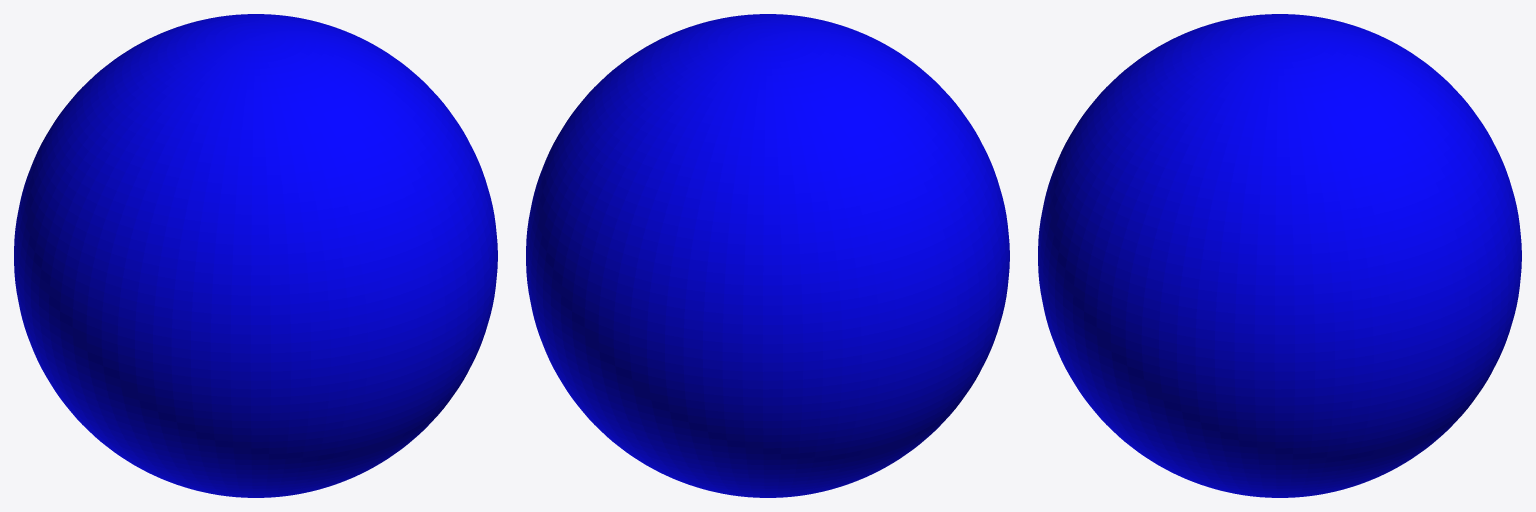
The model's file is buoy.dae.
3 views of the same model, side by side, from view 1: azimuth 30°, elevation 25°; view 2: azimuth 150°, elevation 25°; view 3: azimuth 270°, elevation 25° (orthographic).
Parts seen in each view (by area): view 1: Sphere; view 2: Sphere; view 3: Sphere.
Boxes of the visible parts, <box> form: Sphere: <box>14,14,497,497</box>; Sphere: <box>526,14,1009,497</box>; Sphere: <box>1038,14,1521,497</box>.
Bounding box in the file's own units: 0.3681 × 0.3681 × 0.3683.
